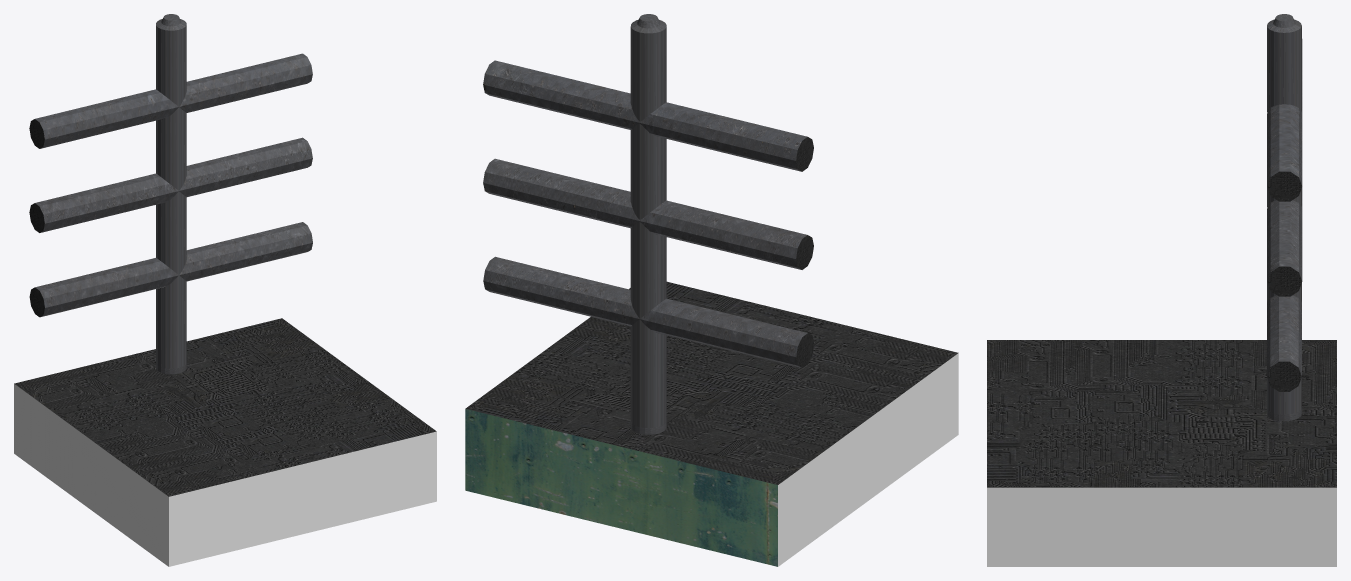
Rendered from Rail_SideMesh.fbx.
3 views of the same model, side by side, from view 1: azimuth 30°, elevation 25°; view 2: azimuth 150°, elevation 25°; view 3: azimuth 270°, elevation 25° (orthographic). The views are drawn at different scales.
Visible parts, largest first — view 1: pCylinder53; view 2: pCylinder53; view 3: pCylinder53.
Part boxes in pixels (left/top/right/bottom): pCylinder53: left=14, top=14, right=436, bottom=566; pCylinder53: left=465, top=14, right=958, bottom=566; pCylinder53: left=987, top=14, right=1336, bottom=566.
Size of the model in its own units: 100 by 150 by 100.
Materials: 1 (1 with a texture image).
